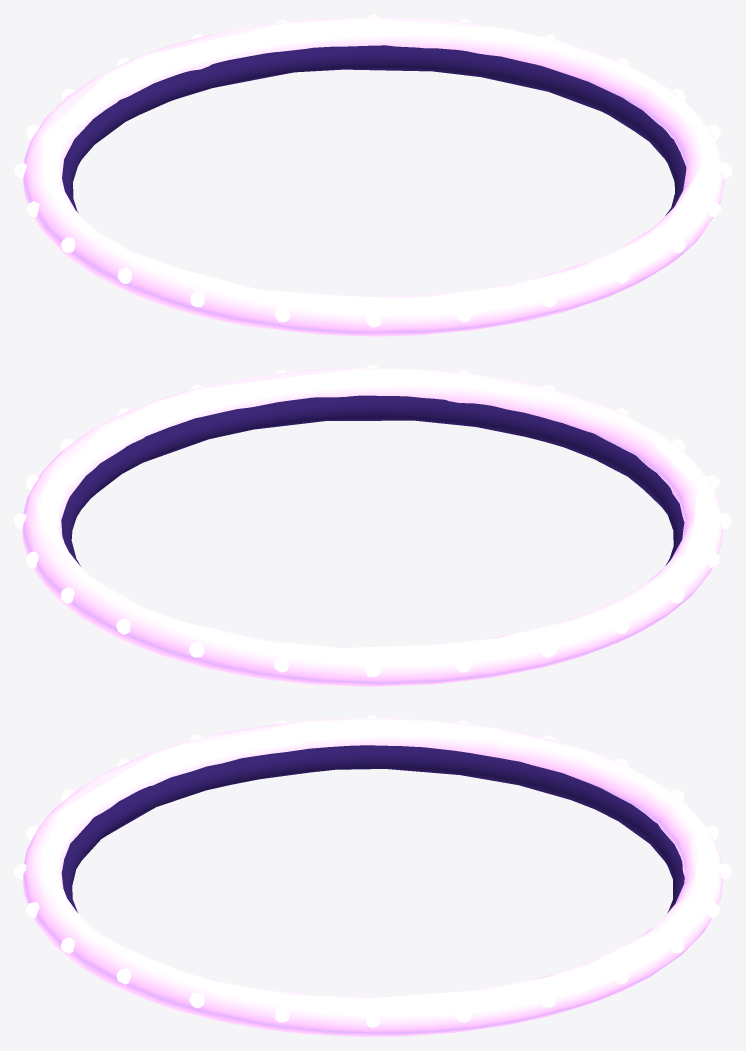
File: hole_rim.glb
3 views of the same model, one above another, from view 1: azimuth 30°, elevation 25°; view 2: azimuth 150°, elevation 25°; view 3: azimuth 270°, elevation 25° (orthographic).
Visible parts, largest first — view 1: hole_rim; view 2: hole_rim; view 3: hole_rim.
Part boxes in pixels (x1,y1,x2,y2): hole_rim: (14, 14, 731, 336); hole_rim: (14, 365, 731, 686); hole_rim: (14, 715, 731, 1036).
Size of the model in its own units: 2.16 by 0.1396 by 2.17.
Materials: 1 (1 with a texture image).
